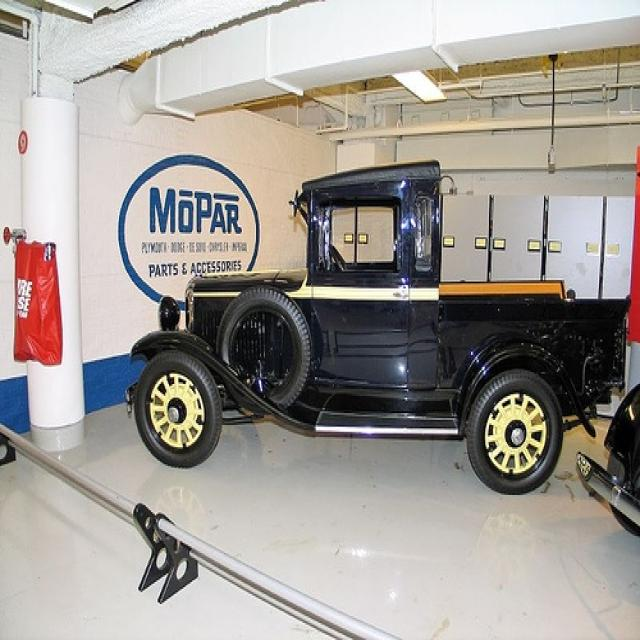car: (127, 157, 631, 495), (574, 379, 638, 541)
